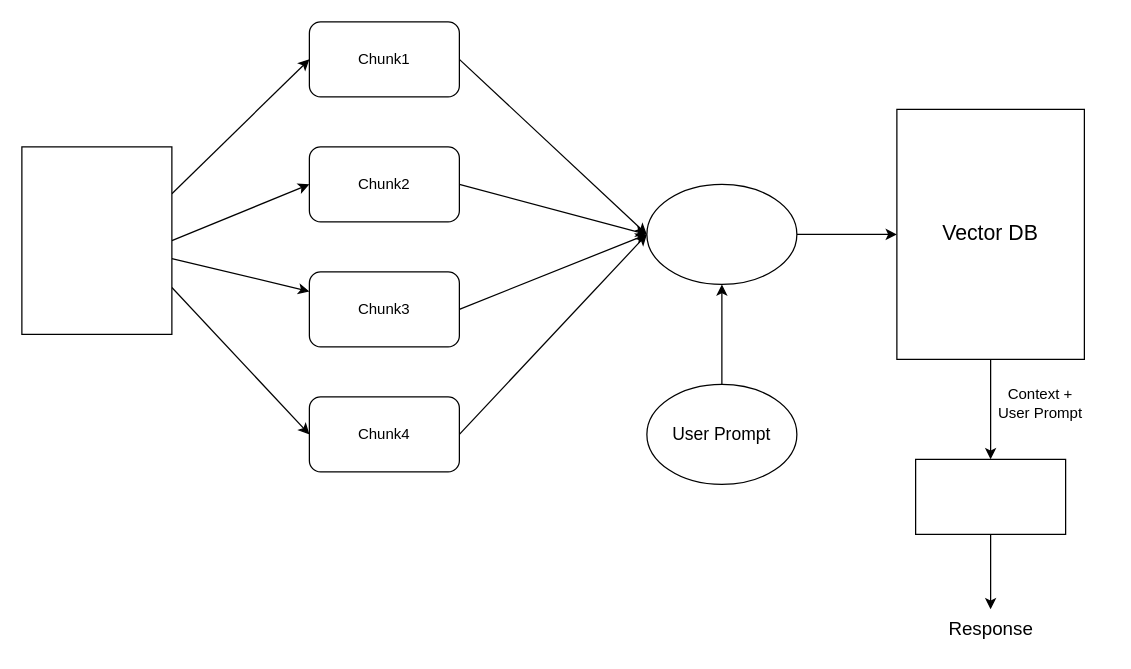
Image size: 1131x669. Some labels were removed from this diagram. The centre of each missing label's shape, as x and y in pixels:
"Embedding Model" belongs at point 721,233.
"LLM" belongs at point 990,496.
"PDF" belongs at point 96,240.
